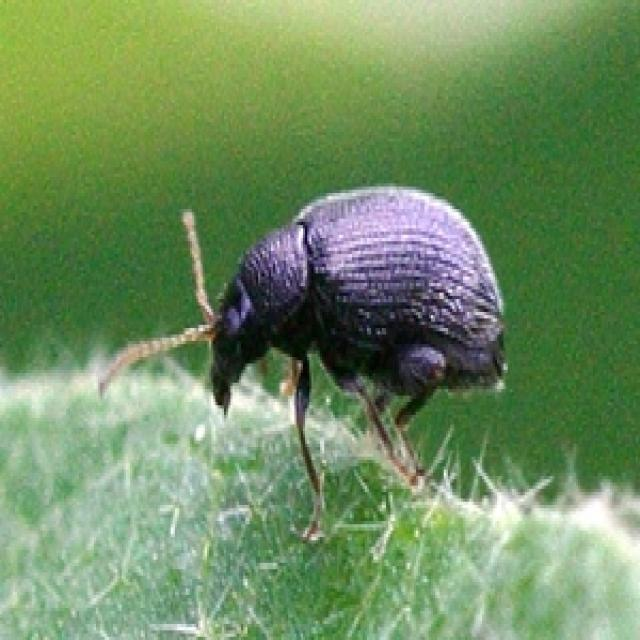flea_beetle: (89, 177, 522, 537)
